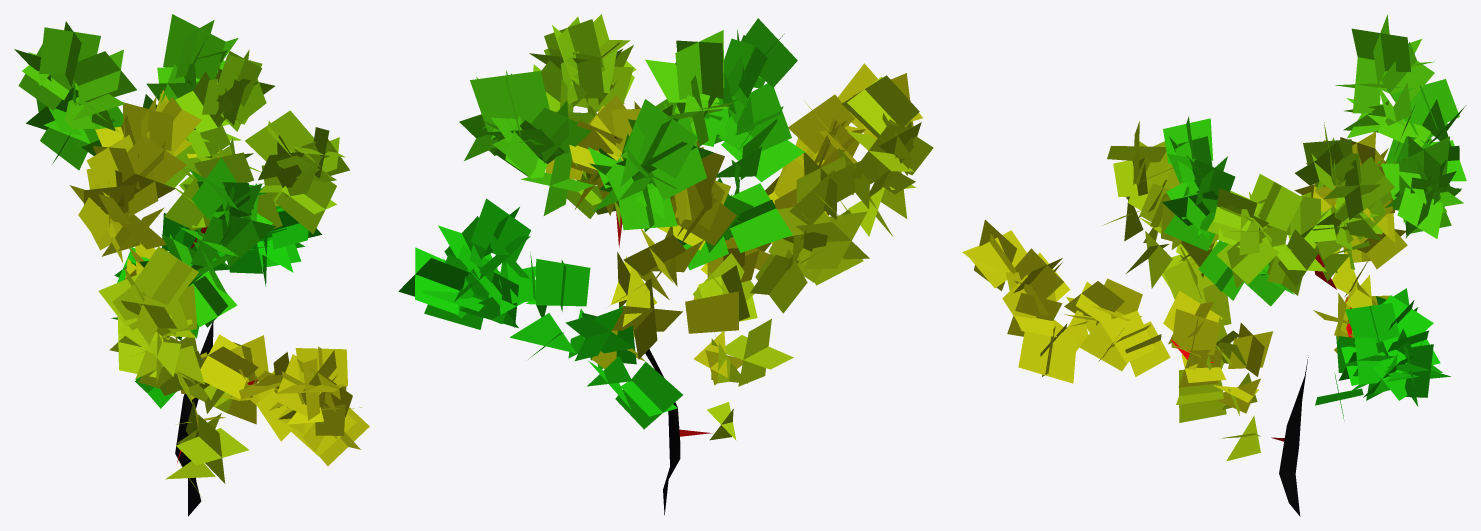
File: plum1 lod3.FBX
3 renders of one model, left to right at view 1: azimuth 30°, elevation 25°; view 2: azimuth 150°, elevation 25°; view 3: azimuth 270°, elevation 25°, orthographic. The views are drawn at different scales.
Parts seen in each view (by area): view 1: plum1_LOD3; view 2: plum1_LOD3; view 3: plum1_LOD3.
Boxes of the visible parts, box(x1,y1,x2,y2) form: plum1_LOD3: box(14, 14, 369, 516); plum1_LOD3: box(398, 14, 933, 514); plum1_LOD3: box(962, 14, 1466, 516).
Bounding box in the file's own units: 127577 × 183491 × 183491.
